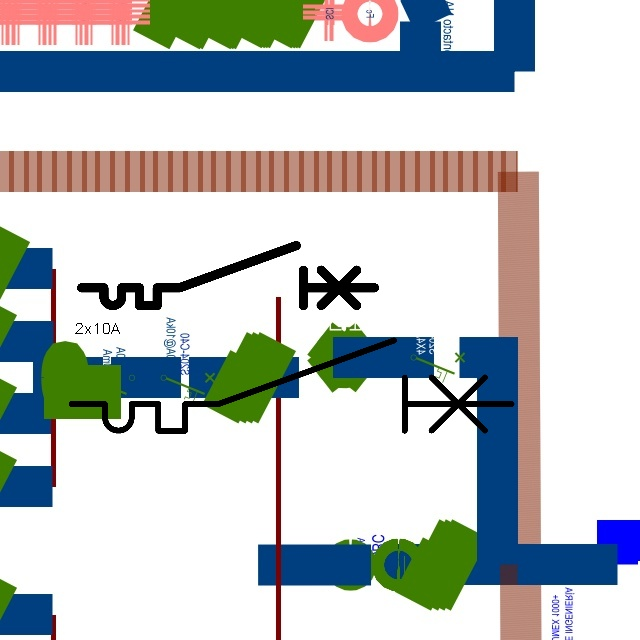interruptor_termomagnetico: (60, 329, 522, 442), (74, 238, 382, 313)
